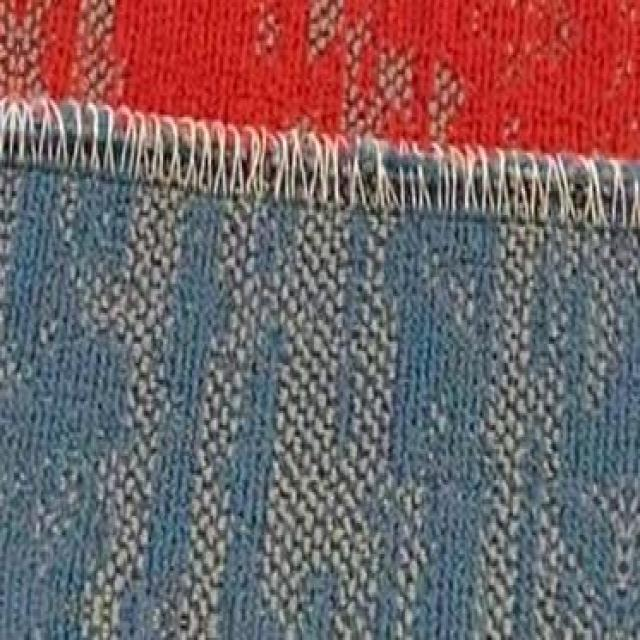gray stitch: (274, 125, 638, 233), (3, 92, 274, 197)
